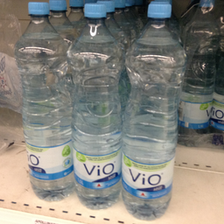water: (119, 3, 184, 220), (65, 3, 123, 209), (14, 1, 72, 203)
